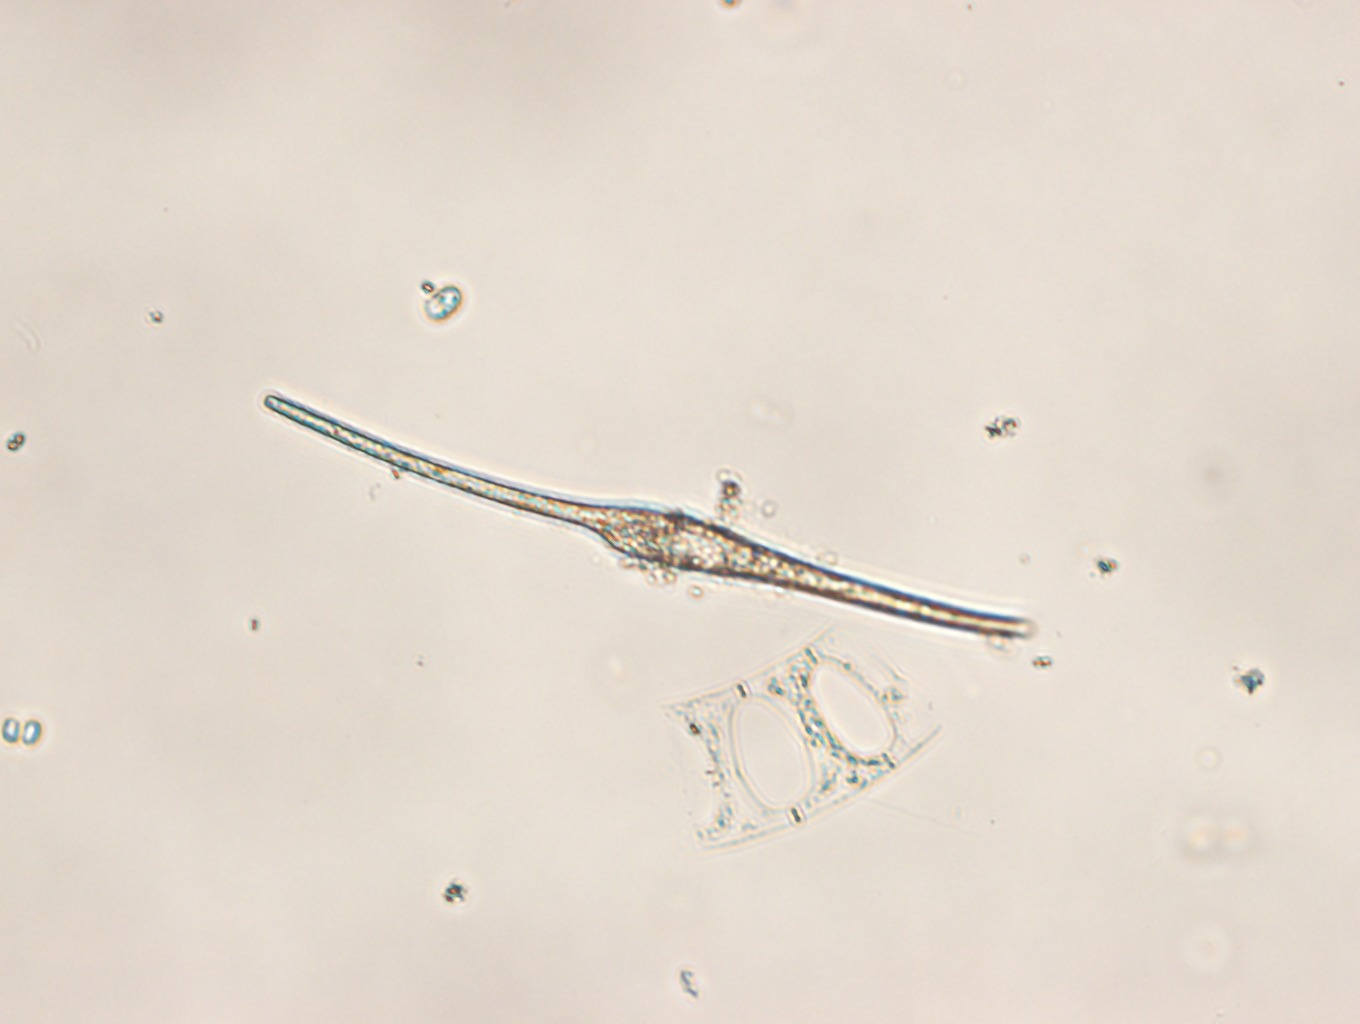ceratium fusus: (259, 389, 1042, 643)
eucampia: (664, 624, 950, 850)
